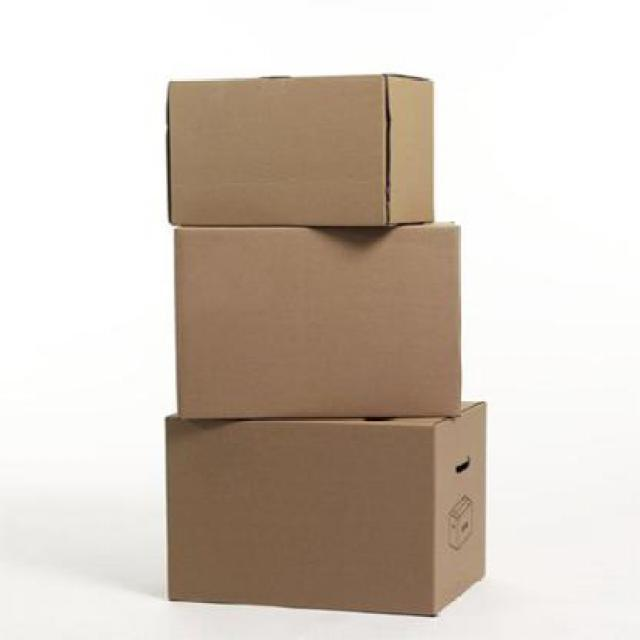Kardus kondisi bagus: (169, 400, 485, 617), (178, 226, 462, 417), (168, 75, 439, 229)
